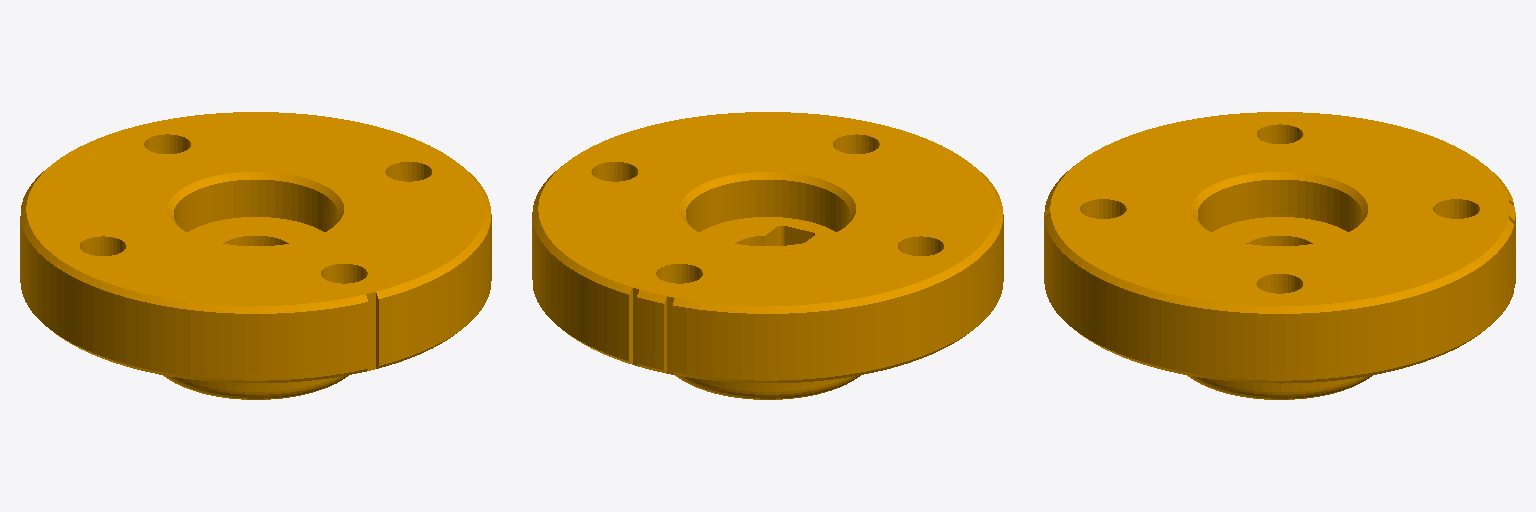
URDF robot description (URDF_finger_4_motors):
<?xml version="1.0" ?>
<!-- =================================================================================== -->
<!-- |    This document was autogenerated by xacro from URDF_finger_4_motors2.xacro    | -->
<!-- |    EDITING THIS FILE BY HAND IS NOT RECOMMENDED                                 | -->
<!-- =================================================================================== -->
<robot name="URDF_finger_4_motors">

<mujoco>
        <compiler
        meshdir="[local-path]/research/projects/crawling_hand/crawling_hand/descriptions/v2/meshes/"
        balanceinertia="true"
        discardvisual="true" />
  </mujoco>

  <link name="base_link">
    <inertial>
      <origin rpy="0 0 0" xyz="3.799405234872211e-14 3.555738008582665e-06 0.004698273696115776"/>
      <mass value="0.004531103214243683"/>
      <inertia ixx="0.0" ixy="0.0" ixz="0.0" iyy="0.0" iyz="0.0" izz="0.0"/>
    </inertial>
    <visual>
      <origin rpy="0 0 0" xyz="0 0 0"/>
      <geometry>
        <mesh filename="base_link.stl" scale="0.001 0.001 0.001"/>
      </geometry>
      <material name="silver"/>
    </visual>
    <collision>
      <origin rpy="0 0 0" xyz="0 0 0"/>
      <geometry>
        <mesh filename="file://[local-path]/research/projects/crawling_hand/URDF_finger_4_motors_description/meshes/base_link.stl" scale="0.001 0.001 0.001"/>
      </geometry>
    </collision>
  </link>
  <link name="MCP_spread_motor_1">
    <inertial>
      <origin rpy="0 0 0" xyz="0.014504402576549202 0.015961701754002047 -0.0007493794787819469"/>
      <mass value="0.11379089624899982"/>
      <inertia ixx="1.6e-05" ixy="0.0" ixz="-0.0" iyy="8e-06" iyz="0.0" izz="1.5e-05"/>
    </inertial>
    <visual>
      <origin rpy="0 0 0" xyz="0 0 0"/>
      <geometry>
        <mesh filename="file://[local-path]/research/projects/crawling_hand/URDF_finger_4_motors_description/meshes/MCP_spread_motor_1.stl" scale="0.001 0.001 0.001"/>
      </geometry>
      <material name="silver"/>
    </visual>
    <collision>
      <origin rpy="0 0 0" xyz="0 0 0"/>
      <geometry>
        <mesh filename="file://[local-path]/research/projects/crawling_hand/URDF_finger_4_motors_description/meshes/MCP_spread_motor_1.stl" scale="0.001 0.001 0.001"/>
      </geometry>
    </collision>
  </link>
  <link name="MCP_motor_1">
    <inertial>
      <origin rpy="0 0 0" xyz="0.01275062052121805 0.007538298245997978 4.402576549209988e-06"/>
      <mass value="0.11379089624899982"/>
      <inertia ixx="1.5e-05" ixy="-0.0" ixz="-0.0" iyy="8e-06" iyz="-0.0" izz="1.6e-05"/>
    </inertial>
    <visual>
      <origin rpy="0 0 0" xyz="0.0135 -0.0235 0.008"/>
      <geometry>
        <mesh filename="file://[local-path]/research/projects/crawling_hand/URDF_finger_4_motors_description/meshes/MCP_motor_1.stl" scale="0.001 0.001 0.001"/>
      </geometry>
      <material name="silver"/>
    </visual>
    <collision>
      <origin rpy="0 0 0" xyz="0.0135 -0.0235 0.008"/>
      <geometry>
        <mesh filename="file://[local-path]/research/projects/crawling_hand/URDF_finger_4_motors_description/meshes/MCP_motor_1.stl" scale="0.001 0.001 0.001"/>
      </geometry>
    </collision>
  </link>
  <link name="proximal_1">
    <inertial>
      <origin rpy="0 0 0" xyz="-0.009220356752702732 0.012499163175217737 -0.008000000000001731"/>
      <mass value="0.04954129030393856"/>
      <inertia ixx="6e-06" ixy="-1e-06" ixz="0.0" iyy="9e-06" iyz="0.0" izz="1.2e-05"/>
    </inertial>
    <visual>
      <origin rpy="0 0 0" xyz="-0.0105 -0.046 -0.0"/>
      <geometry>
        <mesh filename="file://[local-path]/research/projects/crawling_hand/URDF_finger_4_motors_description/meshes/proximal_1.stl" scale="0.001 0.001 0.001"/>
      </geometry>
      <material name="silver"/>
    </visual>
    <collision>
      <origin rpy="0 0 0" xyz="-0.0105 -0.046 -0.0"/>
      <geometry>
        <mesh filename="file://[local-path]/research/projects/crawling_hand/URDF_finger_4_motors_description/meshes/proximal_1.stl" scale="0.001 0.001 0.001"/>
      </geometry>
    </collision>
  </link>
  <link name="PIP_motor_1">
    <inertial>
      <origin rpy="0 0 0" xyz="0.011750620521217897 0.007538298245998248 4.402576549341827e-06"/>
      <mass value="0.11379089624899982"/>
      <inertia ixx="1.5e-05" ixy="-0.0" ixz="-0.0" iyy="8e-06" iyz="-0.0" izz="1.6e-05"/>
    </inertial>
    <visual>
      <origin rpy="0 0 0" xyz="0.0125 -0.0725 0.008"/>
      <geometry>
        <mesh filename="file://[local-path]/research/projects/crawling_hand/URDF_finger_4_motors_description/meshes/PIP_motor_1.stl" scale="0.001 0.001 0.001"/>
      </geometry>
      <material name="silver"/>
    </visual>
    <collision>
      <origin rpy="0 0 0" xyz="0.0125 -0.0725 0.008"/>
      <geometry>
        <mesh filename="file://[local-path]/research/projects/crawling_hand/URDF_finger_4_motors_description/meshes/PIP_motor_1.stl" scale="0.001 0.001 0.001"/>
      </geometry>
    </collision>
  </link>
  <link name="middle_1">
    <inertial>
      <origin rpy="0 0 0" xyz="-0.00922035675270308 0.01249916317521807 -0.008000000000001705"/>
      <mass value="0.04954129030393859"/>
      <inertia ixx="6e-06" ixy="-1e-06" ixz="0.0" iyy="9e-06" iyz="0.0" izz="1.2e-05"/>
    </inertial>
    <visual>
      <origin rpy="0 0 0" xyz="-0.0105 -0.095 -0.0"/>
      <geometry>
        <mesh filename="file://[local-path]/research/projects/crawling_hand/URDF_finger_4_motors_description/meshes/middle_1.stl" scale="0.001 0.001 0.001"/>
      </geometry>
      <material name="silver"/>
    </visual>
    <collision>
      <origin rpy="0 0 0" xyz="-0.0105 -0.095 -0.0"/>
      <geometry>
        <mesh filename="file://[local-path]/research/projects/crawling_hand/URDF_finger_4_motors_description/meshes/middle_1.stl" scale="0.001 0.001 0.001"/>
      </geometry>
    </collision>
  </link>
  <link name="DIP_motor_1">
    <inertial>
      <origin rpy="0 0 0" xyz="0.01175062052121759 0.007538298245998387 4.402576549360909e-06"/>
      <mass value="0.11379089624899982"/>
      <inertia ixx="1.5e-05" ixy="-0.0" ixz="-0.0" iyy="8e-06" iyz="-0.0" izz="1.6e-05"/>
    </inertial>
    <visual>
      <origin rpy="0 0 0" xyz="0.0125 -0.1215 0.008"/>
      <geometry>
        <mesh filename="file://[local-path]/research/projects/crawling_hand/URDF_finger_4_motors_description/meshes/DIP_motor_1.stl" scale="0.001 0.001 0.001"/>
      </geometry>
      <material name="silver"/>
    </visual>
    <collision>
      <origin rpy="0 0 0" xyz="0.0125 -0.1215 0.008"/>
      <geometry>
        <mesh filename="file://[local-path]/research/projects/crawling_hand/URDF_finger_4_motors_description/meshes/DIP_motor_1.stl" scale="0.001 0.001 0.001"/>
      </geometry>
    </collision>
  </link>
  <link name="distal_1">
    <inertial>
      <origin rpy="0 0 0" xyz="0.008558967783568232 0.1674005201629926 -0.010499974691148698"/>
      <mass value="0.049733622959558965"/>
      <inertia ixx="5e-06" ixy="0.0" ixz="0.0" iyy="9e-06" iyz="0.0" izz="9e-06"/>
    </inertial>
    <visual>
      <origin rpy="0 0 0" xyz="0.009 0.0225 -0.0025"/>
      <geometry>
        <mesh filename="file://[local-path]/research/projects/crawling_hand/URDF_finger_4_motors_description/meshes/distal_1.stl" scale="0.001 0.001 0.001"/>
      </geometry>
      <material name="silver"/>
    </visual>
    <collision>
      <origin rpy="0 0 0" xyz="0.009 0.0225 -0.0025"/>
      <geometry>
        <mesh filename="file://[local-path]/research/projects/crawling_hand/URDF_finger_4_motors_description/meshes/distal_1.stl" scale="0.001 0.001 0.001"/>
      </geometry>
    </collision>
  </link>
  <link name="metacarpal_1">
    <inertial>
      <origin rpy="0 0 0" xyz="0.0005018454812299407 0.02234267107533321 -0.0005002364022809631"/>
      <mass value="0.10432007000540634"/>
      <inertia ixx="2.6e-05" ixy="-1e-06" ixz="0.0" iyy="2.4e-05" iyz="-0.0" izz="4e-05"/>
    </inertial>
    <visual>
      <origin rpy="0 0 0" xyz="-0.0 0.0245 0.0075"/>
      <geometry>
        <mesh filename="file://[local-path]/research/projects/crawling_hand/URDF_finger_4_motors_description/meshes/metacarpal_1.stl" scale="0.001 0.001 0.001"/>
      </geometry>
      <material name="silver"/>
    </visual>
    <collision>
      <origin rpy="0 0 0" xyz="-0.0 0.0245 0.0075"/>
      <geometry>
        <mesh filename="file://[local-path]/research/projects/crawling_hand/URDF_finger_4_motors_description/meshes/metacarpal_1.stl" scale="0.001 0.001 0.001"/>
      </geometry>
    </collision>
  </link>
  <joint name="MCP_spread" type="continuous">
    <!-- <origin rpy="0 0 0" xyz="-0.0145 -0.0235 -0.007"/> -->
    <parent link="base_link"/>
    <child link="MCP_spread_motor_1"/>
    <axis xyz="-0.0 -0.0 1.0"/>
  </joint>
  <joint name="MCP" type="continuous">
    <origin rpy="0 0 0" xyz="-0.0135 0.048 -0.0005"/>
    <parent link="metacarpal_1"/>
    <child link="MCP_motor_1"/>
    <axis xyz="1.0 0.0 0.0"/>
  </joint>
  <joint name="MCP_link" type="fixed">
    <origin rpy="0 0 0" xyz="0.024 0.0225 0.008"/>
    <parent link="MCP_motor_1"/>
    <child link="proximal_1"/>
  </joint>
  <joint name="PIP" type="continuous">
    <origin rpy="0 0 0" xyz="-0.023 0.0265 -0.008"/>
    <parent link="proximal_1"/>
    <child link="PIP_motor_1"/>
    <axis xyz="1.0 0.0 -0.0"/>
  </joint>
  <joint name="PIP_link" type="fixed">
    <origin rpy="0 0 0" xyz="0.023 0.0225 0.008"/>
    <parent link="PIP_motor_1"/>
    <child link="middle_1"/>
  </joint>
  <joint name="DIP" type="continuous">
    <origin rpy="0 0 0" xyz="-0.023 0.0265 -0.008"/>
    <parent link="middle_1"/>
    <child link="DIP_motor_1"/>
    <axis xyz="1.0 0.0 -0.0"/>
  </joint>
  <joint name="DIP_link" type="fixed">
    <origin rpy="0 0 0" xyz="0.0035 -0.144 0.0105"/>
    <parent link="DIP_motor_1"/>
    <child link="distal_1"/>
  </joint>
  <joint name="MCP_spread_link" type="fixed">
    <!-- <origin rpy="0 0 0" xyz="0.0145 -0.001 -0.0005"/> -->
    <origin rpy="0 0 0" xyz="0 -0.0155 -0.0075"/>
    <parent link="MCP_spread_motor_1"/>
    <child link="metacarpal_1"/>
  </joint>
</robot>

--- Facts derived from the render (not from the file) ---
3 views of the same robot in one strip: view 1: azimuth 30°, elevation 25°; view 2: azimuth 150°, elevation 25°; view 3: azimuth 270°, elevation 25° (orthographic).
Robot: URDF_finger_4_motors — 9 links, 8 joints (4 continuous, 4 fixed); root link base_link; default pose: every joint at zero.
Links seen in each view (by area): view 1: base_link; view 2: base_link; view 3: base_link.
Link boxes in pixels (box(x1,y1,x2,y2)): base_link: box(20, 112, 491, 399); base_link: box(532, 112, 1003, 399); base_link: box(1044, 112, 1515, 399).
Bounding box of the posed robot: 0.016 × 0.016 × 0.0056 m (x, y, z).
1 mesh visuals loaded from 1 distinct referenced files (1 binary STL); not drawn: 8 (reference in a form the renderer does not follow; not among the files counted above).